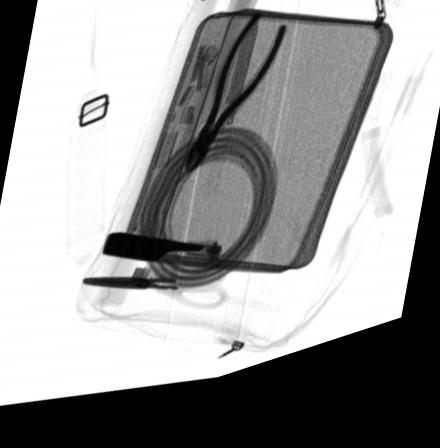Hammer: (101, 0, 265, 272)
Knife: (198, 33, 258, 212)
Pliers: (182, 32, 286, 186)
Scissors: (81, 264, 231, 325)
